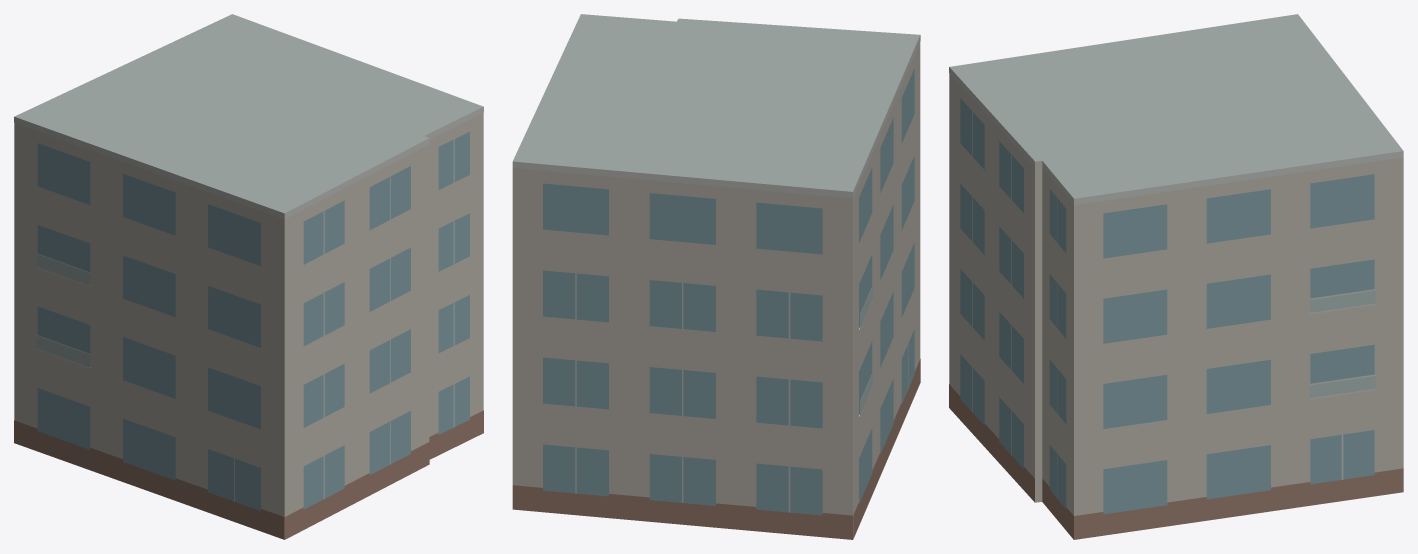
Rendered from survey-upis-32905508.glb.
3 renders of one model, left to right at view 1: azimuth 30°, elevation 25°; view 2: azimuth 150°, elevation 25°; view 3: azimuth 270°, elevation 25°, orthographic. The views are drawn at different scales.
Parts seen in each view (by area): view 1: survey-upis-32905508.tmp; view 2: survey-upis-32905508.tmp; view 3: survey-upis-32905508.tmp.
Part boxes in pixels (<box>): survey-upis-32905508.tmp: <box>14,14,483,539</box>; survey-upis-32905508.tmp: <box>512,14,920,539</box>; survey-upis-32905508.tmp: <box>949,14,1403,539</box>.
Bounding box in the file's own units: 15.23 × 13.1 × 15.83.
